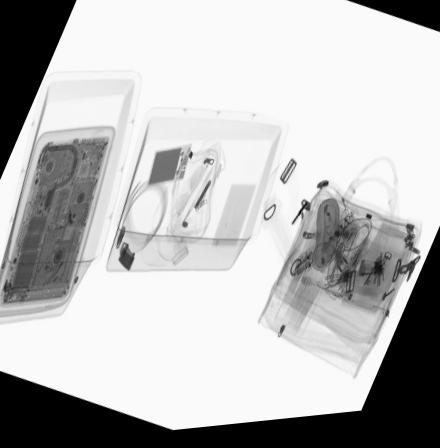Lighter: (337, 293, 354, 309)
